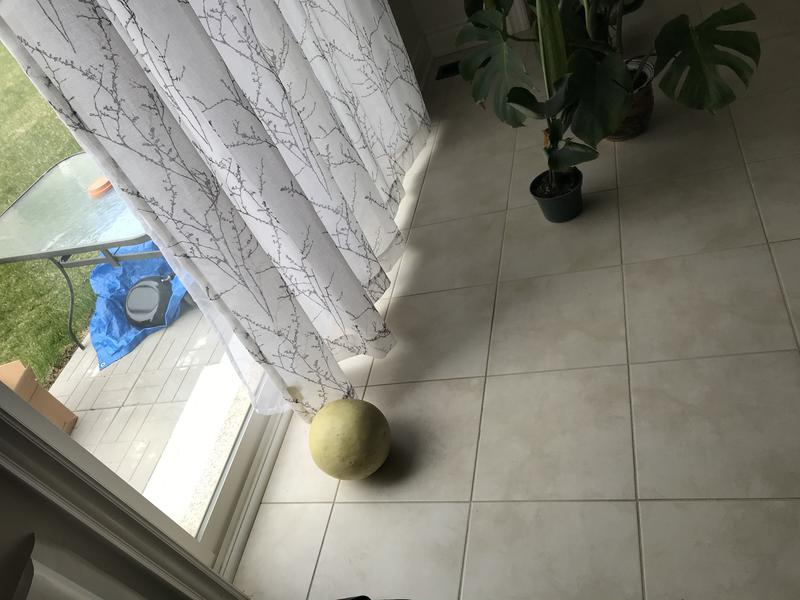honeydew: (306, 394, 395, 485)
